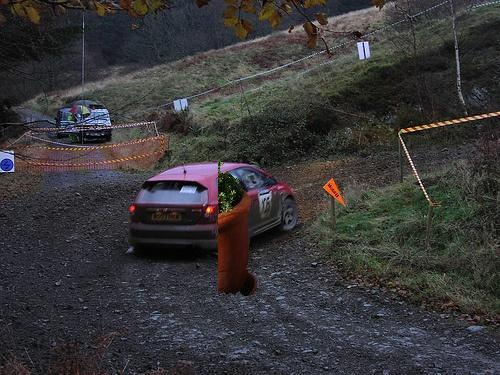tampered: (219, 163, 257, 296)
